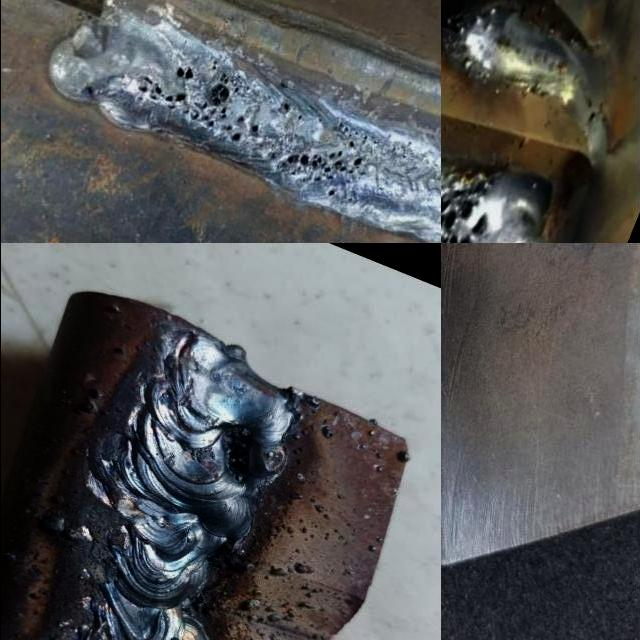defect: (127, 60, 264, 147), (274, 135, 371, 201), (219, 426, 255, 485), (274, 98, 299, 118), (190, 445, 214, 464)
